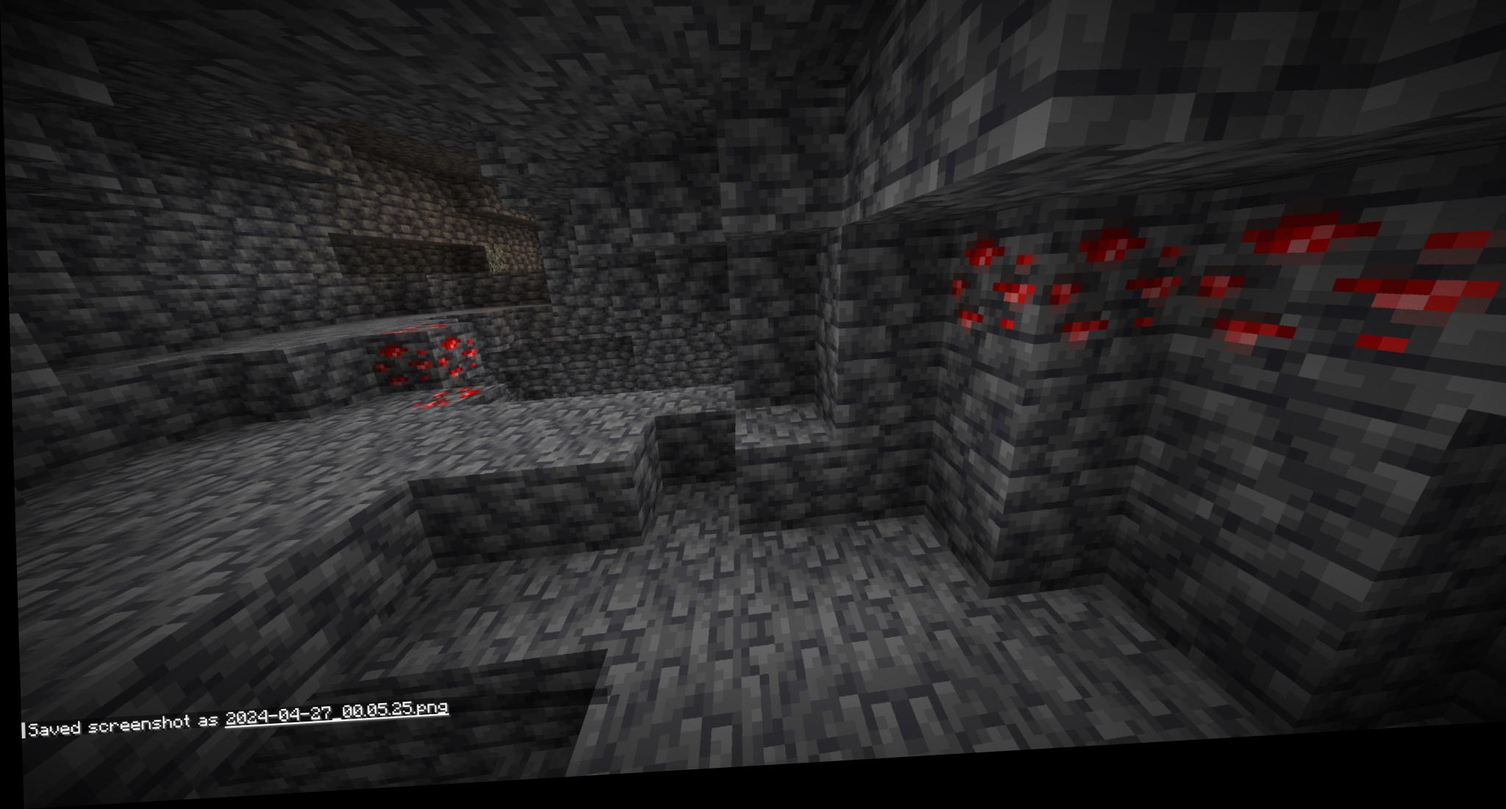redstone ore: (1204, 217, 1452, 401), (1052, 228, 1173, 361), (935, 244, 1034, 368), (369, 344, 433, 398), (431, 338, 481, 387), (413, 392, 478, 413)
